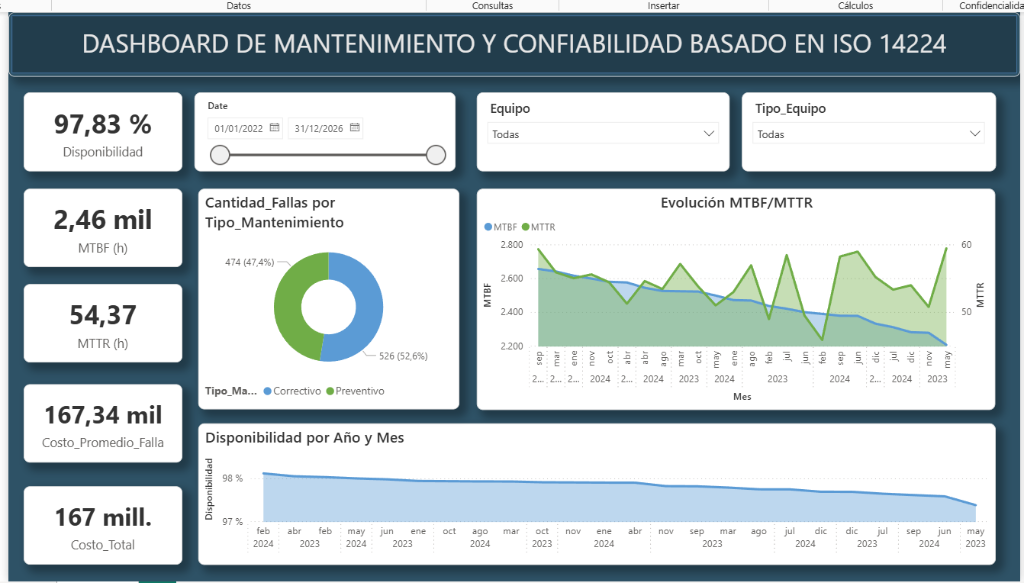

The page's visual inventory and layout, read from the dashboard file:
{"tool":"powerbi","page":{"name":"Página 1","canvas":[1280,720],"ordinal":0},"visuals":[{"type":"shape","box":[0,0,1280,81.4],"z":0},{"type":"textbox","box":[0,12.1,1280,57.9],"z":1000},{"type":"card","fields":{"Values":["dataset.Disponibilidad"]},"box":[19.1,101.6,200.7,100.3],"z":2500},{"type":"card","fields":{"Values":["dataset.MTBF"]},"box":[19.1,223.5,200.7,99.1],"z":2501},{"type":"card","fields":{"Values":["dataset.MTTR"]},"box":[19.1,344.2,200.7,99.1],"z":2502},{"type":"card","fields":{"Values":["dataset.Costo_Promedio_Falla"]},"box":[19.1,469.9,200.7,99.1],"z":2503},{"type":"card","fields":{"Values":["dataset.Costo_Total"]},"box":[19.1,599.5,200.7,99.1],"z":2504},{"type":"slicer","fields":{"Values":["Calendario.Date"]},"box":[235,101.6,330.2,100.3],"z":2505},{"type":"slicer","fields":{"Values":["dataset.Equipo"]},"box":[591.9,101.6,320.1,100.3],"z":2506},{"type":"slicer","fields":{"Values":["dataset.Tipo_Equipo"]},"box":[927.2,101.6,321.3,100.3],"z":2507},{"type":"areaChart","title":"Evolución MTBF/MTTR","fields":{"Category":["Calendario.Año","Calendario.Mes"],"Y":["dataset.MTBF"],"Y2":["dataset.MTTR"]},"box":[592.4,223.2,656.3,279.9],"z":2508},{"type":"areaChart","fields":{"Category":["Calendario.Año","Calendario.Mes"],"Y":["dataset.Disponibilidad"]},"box":[240,519.5,1008.5,179.1],"z":2509},{"type":"donutChart","fields":{"Category":["dataset.Tipo_Mantenimiento"],"Y":["dataset.Cantidad_Fallas"]},"box":[240,223.5,330.2,279.4],"z":2510}]}

Visuals, with their boxes in screenshot pixels (x1, y1, x2, y2):
shape: (5,11,1015,75)
textbox: (5,20,1015,66)
card - dataset.Disponibilidad: (20,91,179,170)
card - dataset.MTBF: (20,187,179,265)
card - dataset.MTTR: (20,282,179,360)
card - dataset.Costo_Promedio_Falla: (20,381,179,460)
card - dataset.Costo_Total: (20,484,179,562)
slicer - Calendario.Date: (191,91,451,170)
slicer - dataset.Equipo: (472,91,725,170)
slicer - dataset.Tipo_Equipo: (737,91,990,170)
"Evolución MTBF/MTTR" areaChart: (473,187,990,408)
areaChart - Calendario.Año x Calendario.Mes: (195,421,990,562)
donutChart - dataset.Tipo_Mantenimiento x dataset.Cantidad_Fallas: (195,187,455,407)
